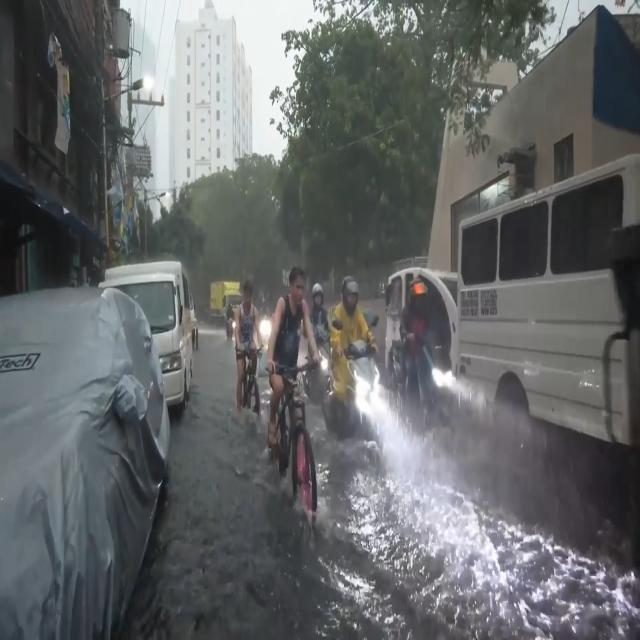full: (408, 276, 429, 314), (342, 277, 359, 315)
half: (312, 284, 324, 308)
